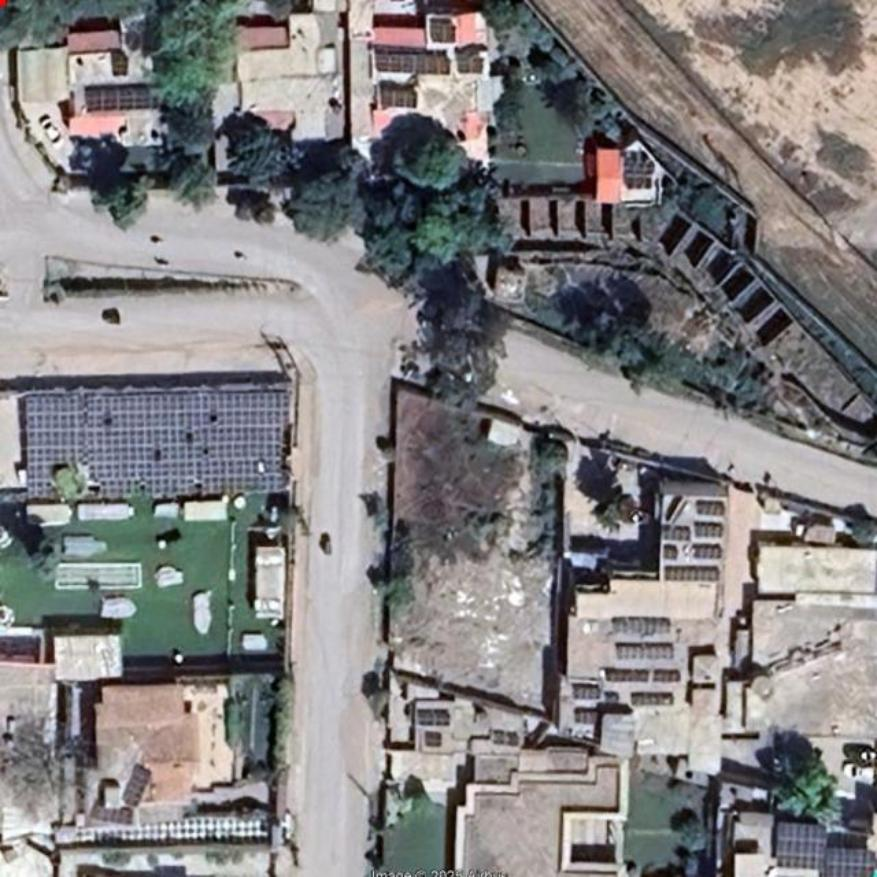Solarpanel: (24, 387, 292, 498), (777, 822, 827, 869), (87, 88, 151, 112), (376, 52, 450, 72), (824, 851, 876, 876), (617, 645, 674, 661), (380, 89, 419, 108), (430, 21, 456, 45), (605, 669, 652, 681), (632, 692, 675, 705), (666, 568, 718, 578), (457, 57, 483, 73), (575, 683, 601, 698), (696, 501, 725, 514), (695, 524, 723, 536), (663, 527, 688, 539), (697, 546, 721, 558), (655, 672, 681, 682)
